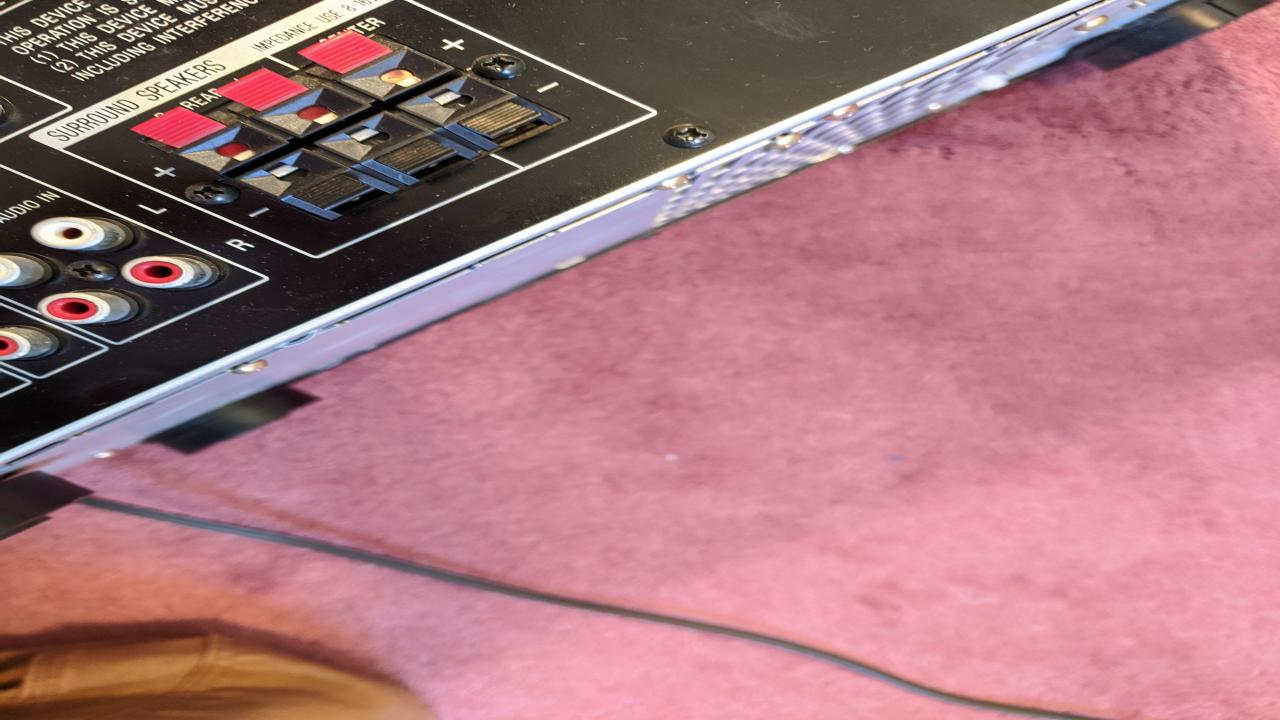CRS: (663, 124, 713, 148), (475, 52, 523, 76), (180, 182, 232, 204)
